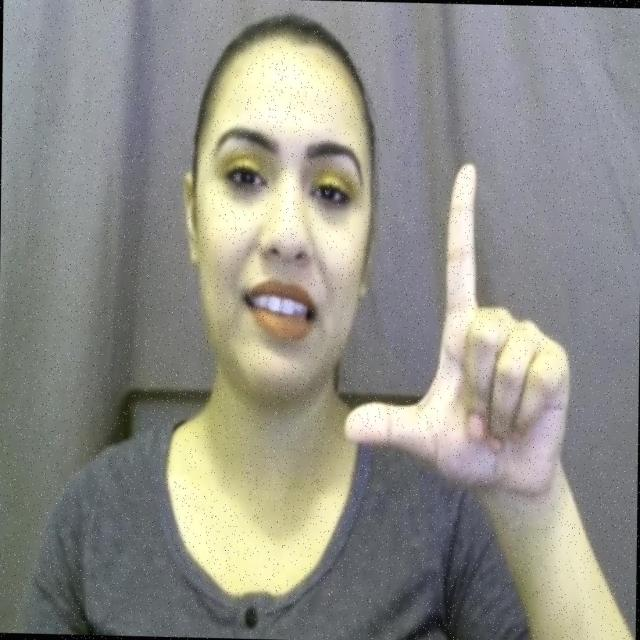L: (339, 154, 578, 496)
